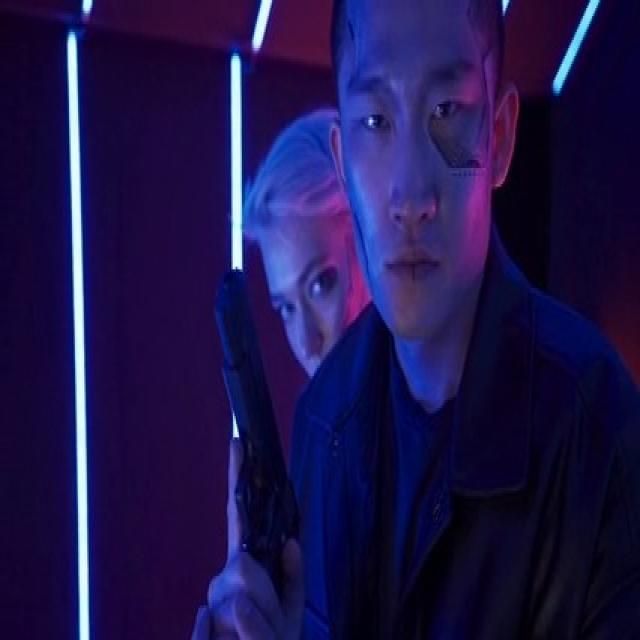Gun_Holder: (193, 256, 329, 640)
Jacket_Wearer: (293, 242, 640, 640)
Person: (292, 0, 640, 640), (235, 88, 374, 621)
